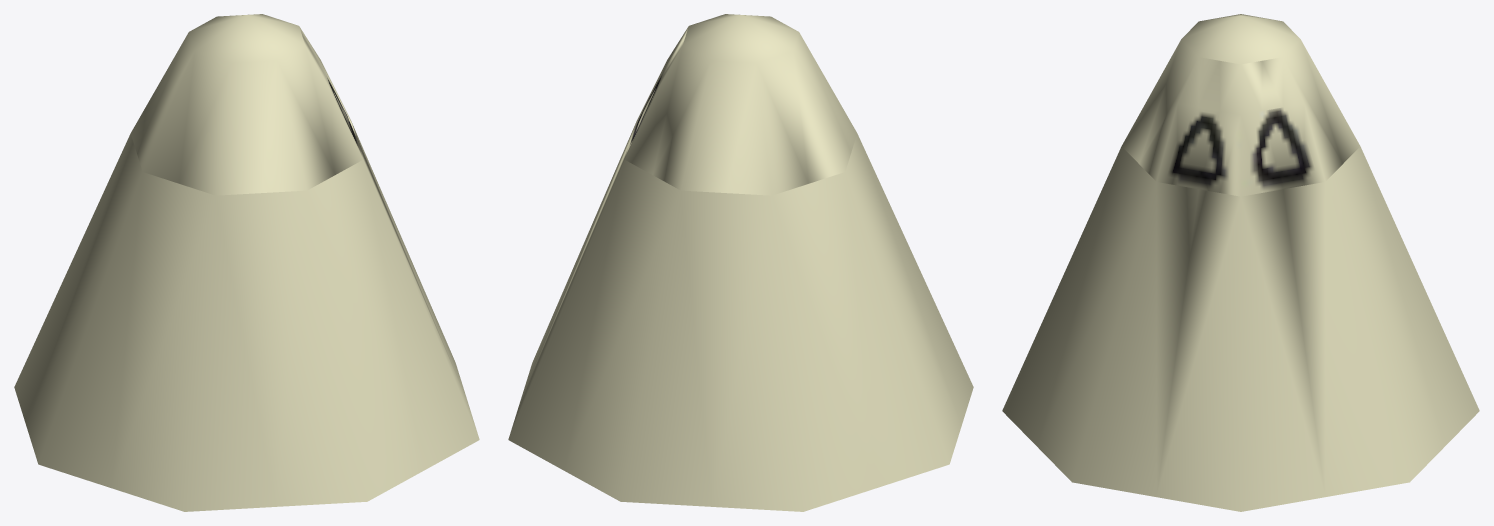
Rendered from hill8.dae.
3 renders of one model, left to right at view 1: azimuth 30°, elevation 25°; view 2: azimuth 150°, elevation 25°; view 3: azimuth 270°, elevation 25°, orthographic.
Parts seen in each view (by area): view 1: Circle.001; view 2: Circle.001; view 3: Circle.001.
Part boxes in pixels (box(x1,y1,x2,y2)): Circle.001: box(14, 14, 479, 511); Circle.001: box(508, 14, 973, 511); Circle.001: box(1002, 14, 1479, 511).
Bounding box in the file's own units: 2.1 × 2.1 × 1.92.
Materials: 1 (1 with a texture image).
